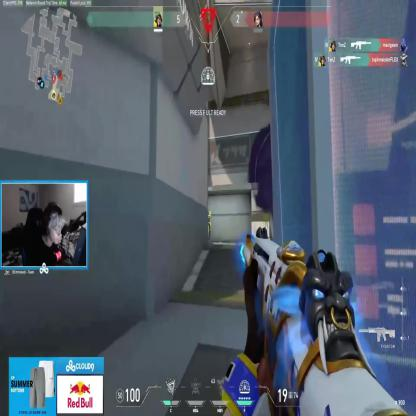enemy: (205, 207, 211, 240)
enemy_head: (206, 208, 210, 214)
